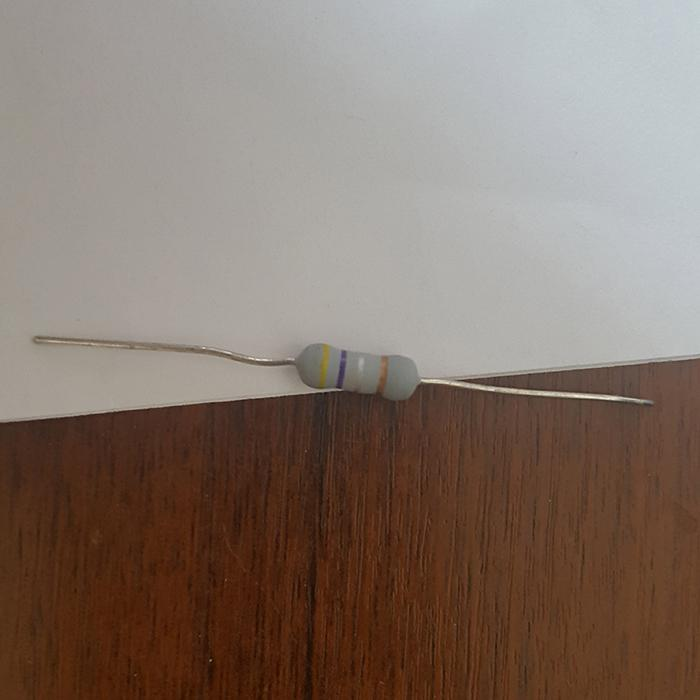resistor: (292, 341, 422, 400)
